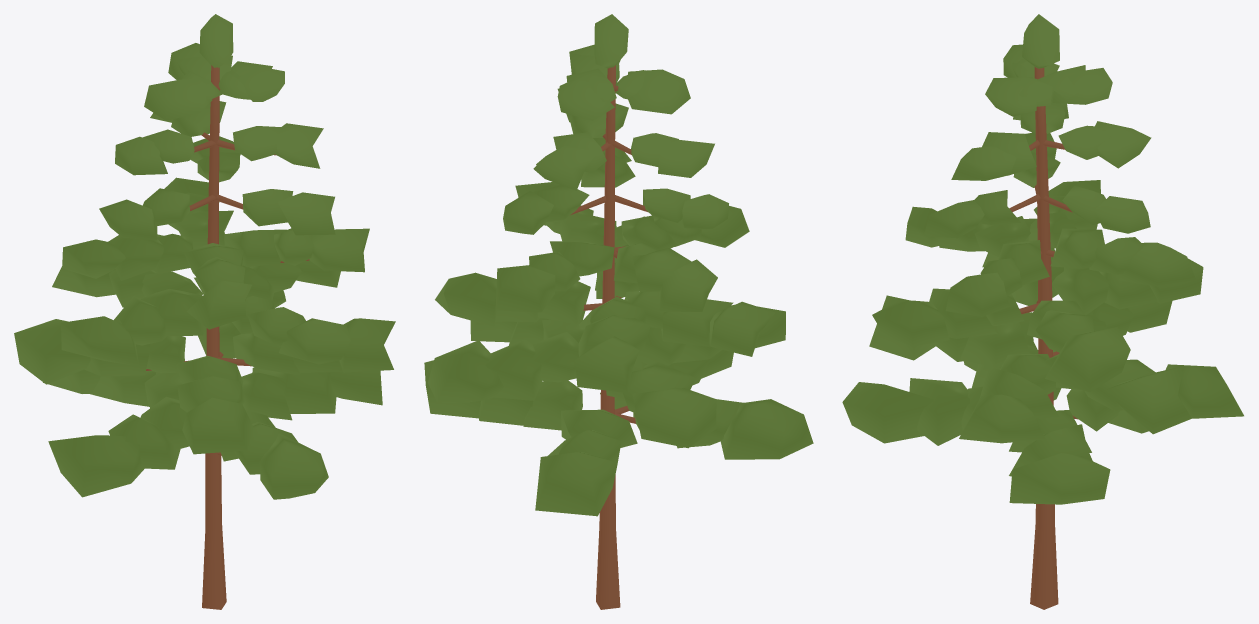
File: Blender_ShortleafPine_1_Far.glb
3 views of the same model, side by side, from view 1: azimuth 30°, elevation 25°; view 2: azimuth 150°, elevation 25°; view 3: azimuth 270°, elevation 25° (orthographic).
Visible parts, largest first — view 1: Blender_ShortleafPine_1_Far; view 2: Blender_ShortleafPine_1_Far; view 3: Blender_ShortleafPine_1_Far.
Part boxes in pixels (x1,y1,x2,y2): Blender_ShortleafPine_1_Far: [14, 14, 395, 609]; Blender_ShortleafPine_1_Far: [424, 14, 813, 609]; Blender_ShortleafPine_1_Far: [842, 14, 1243, 609].
Bounding box in the file's own units: 15.16 × 24.68 × 15.27.
